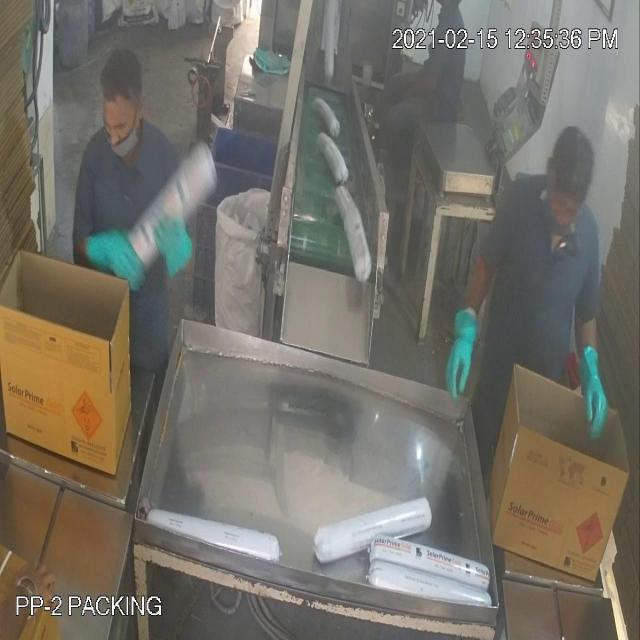Gloves: (36, 44, 599, 390)
